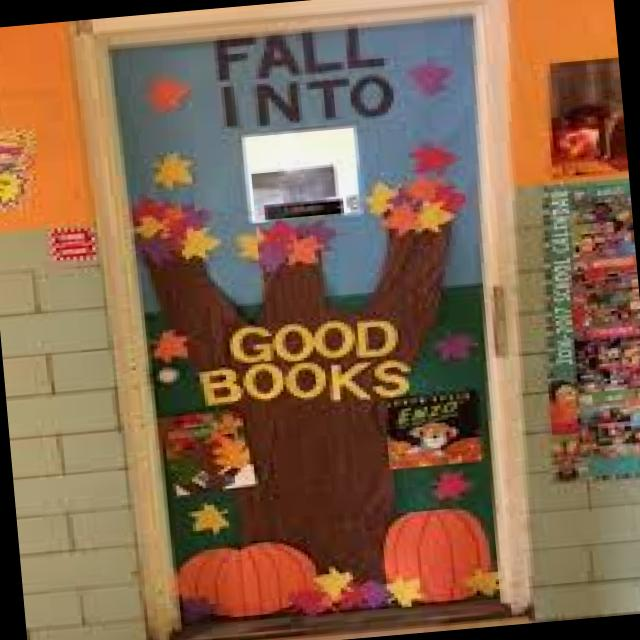door: (71, 0, 536, 640)
